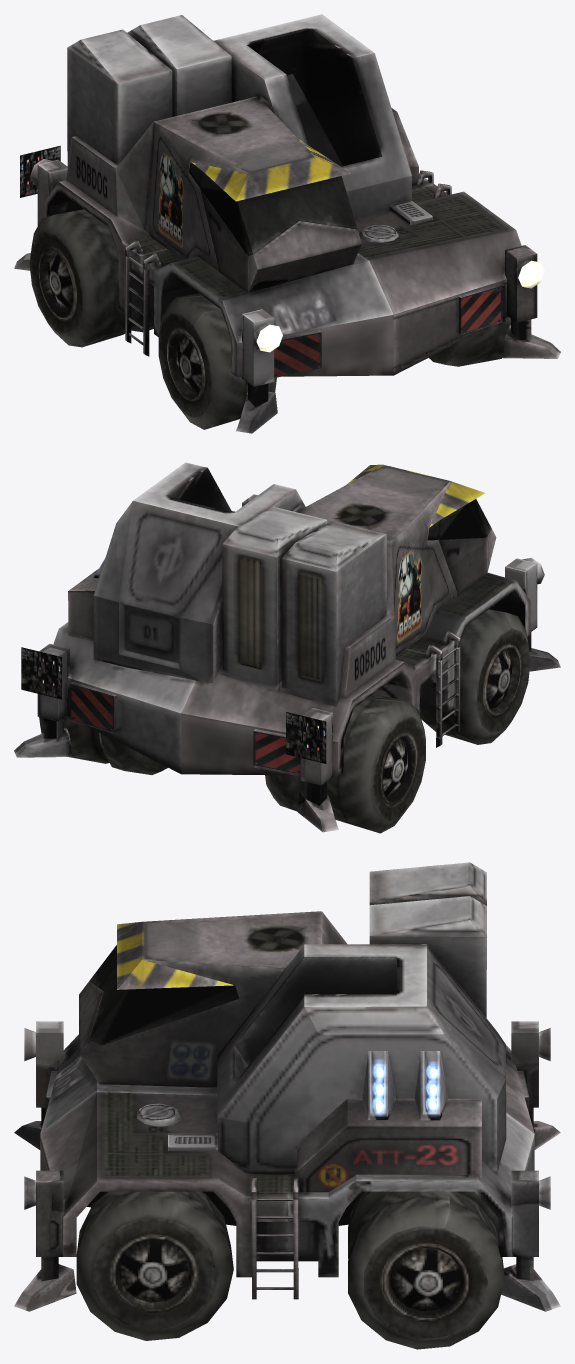
File: maningMachineJoined.fbx
The picture shows the model from 3 angles, top to bottom: view 1: azimuth 30°, elevation 25°; view 2: azimuth 150°, elevation 25°; view 3: azimuth 270°, elevation 25°; orthographic projection. The views are drawn at different scales.
Parts seen in each view (by area): view 1: BackLeft; view 2: BackLeft; view 3: BackLeft.
Part boxes in pixels (box(x1,y1,x2,y2)): BackLeft: box(14, 14, 560, 433); BackLeft: box(14, 462, 560, 833); BackLeft: box(14, 862, 560, 1349).
Size of the model in its own units: 252 by 201 by 306.
